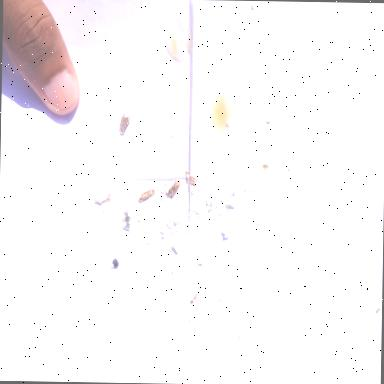pbw: (116, 108, 136, 139), (138, 187, 157, 206), (166, 178, 181, 200), (94, 190, 112, 208)
